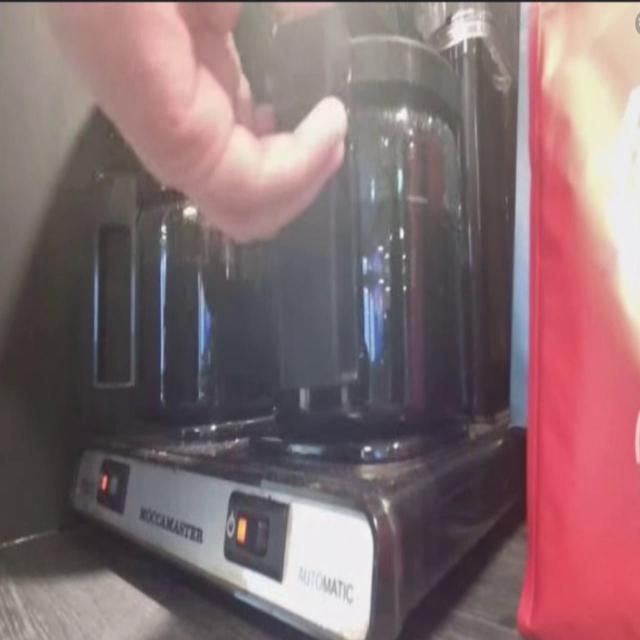coffee: (278, 236, 462, 430), (141, 245, 273, 422)
